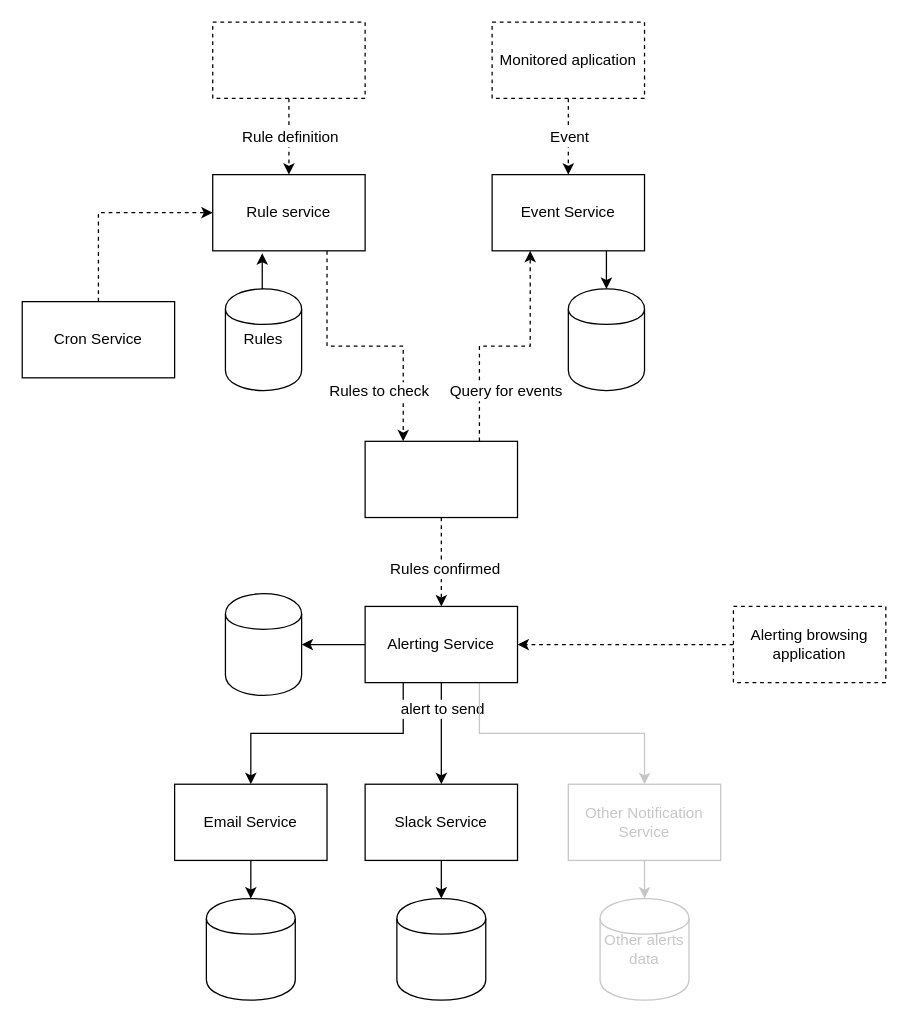
The diagram is 908 pixels wide and 1022 high, and some of its shapes have lost their labels. Each missing label, with the box of its shape:
Alets: (224, 592, 302, 695)
Email alerts data: (205, 897, 295, 1000)
Events: (567, 288, 645, 391)
Rules Provider: (211, 21, 365, 98)
Slak alerts data: (396, 897, 486, 1000)
Worker: (364, 440, 518, 518)
